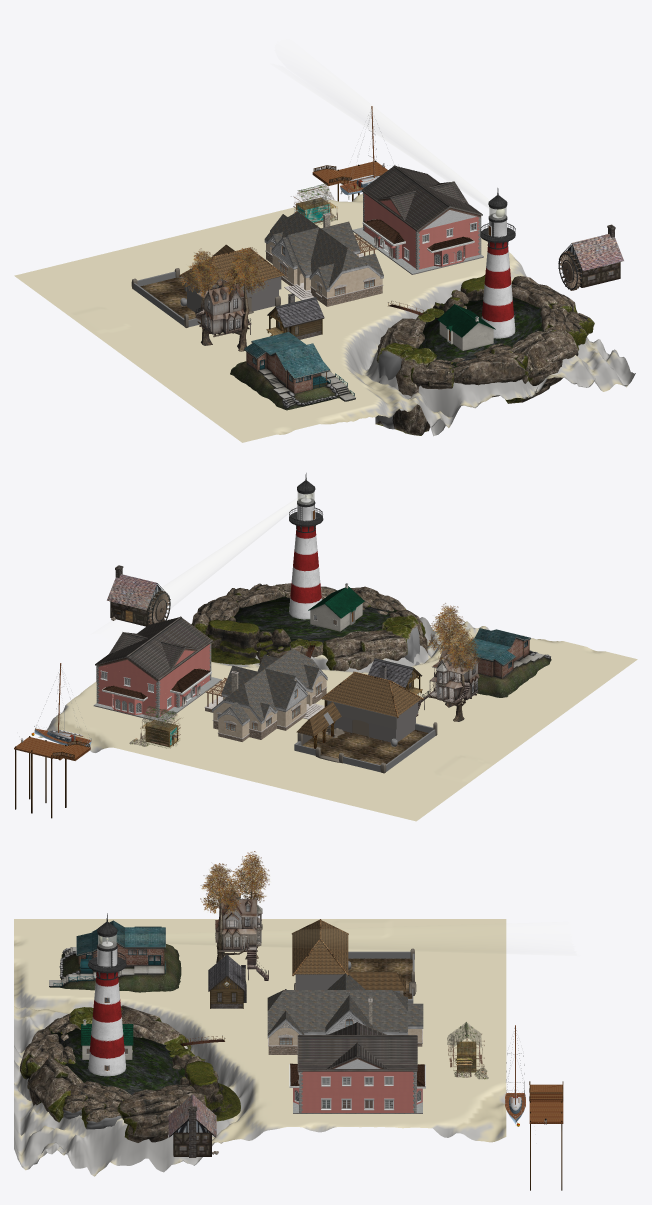
The picture shows the model from 3 angles, top to bottom: view 1: azimuth 30°, elevation 25°; view 2: azimuth 150°, elevation 25°; view 3: azimuth 270°, elevation 25°; orthographic projection. The views are drawn at different scales.
Parts seen in each view (by area): view 1: Terrain 10,0, prim0-mesh_0 (×8), Terrain 10,1, Terrain 11,0, byers cottage (×3), Terrain 11,1, Dach schwarz (×2), RAKis Lighthouse (45m) Light with script, Public city building 08, Fab Stables, RAKis Lighthouse (45m), prim0-mesh (×2) (+8 smaller); view 2: Terrain 10,1, prim0-mesh_0 (×8), Terrain 10,0, Terrain 11,1, byers cottage (×3), Fab Stables, Dach schwarz (×2), RAKis Lighthouse (45m) Light with script, RAKis Lighthouse (45m), Public city building 08, Stable main build, prim0-mesh (×2) (+14 smaller); view 3: prim0-mesh_0 (×11), Terrain 10,1, Terrain 10,0, Terrain 11,1, Terrain 11,0, byers cottage, Dach schwarz (×2), RAKis Lighthouse (45m) Light with script, RAKis Lighthouse (45m), Fab Stables, dust bunny . acorn treehouse, Public city building 08 (+14 smaller).
Boxes of the visible parts, bbox=[...] form: Terrain 10,0: bbox=[128, 311, 437, 442]; prim0-mesh_0 (×8): bbox=[230, 276, 578, 435]; Terrain 10,1: bbox=[14, 227, 325, 359]; Terrain 11,0: bbox=[326, 266, 635, 436]; byers cottage (×3): bbox=[264, 211, 383, 306]; Terrain 11,1: bbox=[212, 194, 523, 310]; Dach schwarz (×2): bbox=[361, 165, 482, 232]; RAKis Lighthouse (45m) Light with script: bbox=[416, 206, 515, 338]; Public city building 08: bbox=[352, 193, 483, 274]; Fab Stables: bbox=[180, 249, 283, 326]; RAKis Lighthouse (45m): bbox=[418, 297, 543, 368]; prim0-mesh (×2): bbox=[437, 304, 495, 350]; Terrain 10,1: bbox=[225, 701, 526, 821]; prim0-mesh_0 (×8): bbox=[191, 585, 551, 697]; Terrain 10,0: bbox=[363, 621, 637, 740]; Terrain 11,1: bbox=[38, 663, 328, 774]; byers cottage (×3): bbox=[212, 648, 327, 741]; Fab Stables: bbox=[294, 673, 433, 755]; Dach schwarz (×2): bbox=[95, 616, 212, 681]; RAKis Lighthouse (45m) Light with script: bbox=[228, 490, 323, 659]; RAKis Lighthouse (45m): bbox=[234, 596, 398, 643]; Public city building 08: bbox=[93, 644, 221, 721]; Stable main build: bbox=[302, 727, 428, 764]; prim0-mesh (×2): bbox=[308, 586, 364, 631]; prim0-mesh_0 (×11): bbox=[20, 920, 240, 1142]; Terrain 10,1: bbox=[260, 919, 506, 1022]; Terrain 10,0: bbox=[14, 919, 259, 1052]; Terrain 11,1: bbox=[260, 1023, 506, 1142]; Terrain 11,0: bbox=[14, 1023, 259, 1176]; byers cottage: bbox=[267, 973, 423, 1038]; Dach schwarz (×2): bbox=[297, 1022, 417, 1072]; RAKis Lighthouse (45m) Light with script: bbox=[88, 933, 215, 1085]; RAKis Lighthouse (45m): bbox=[49, 1028, 184, 1094]; Fab Stables: bbox=[292, 920, 413, 1003]; dust bunny . acorn treehouse: bbox=[200, 863, 246, 962]; Public city building 08: bbox=[293, 1059, 422, 1113].
Size of what is drawn, in the model's own units: 147 by 66.61 by 162.
Materials: 482 (456 with a texture image).
